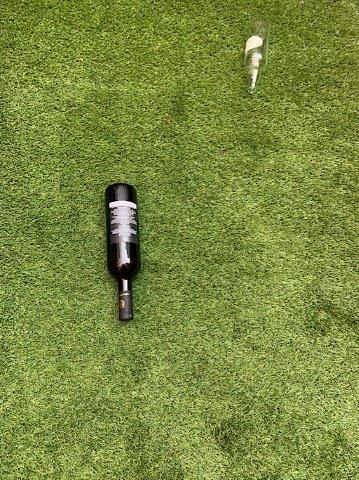botolkaca: (105, 184, 139, 320), (243, 18, 268, 96)
